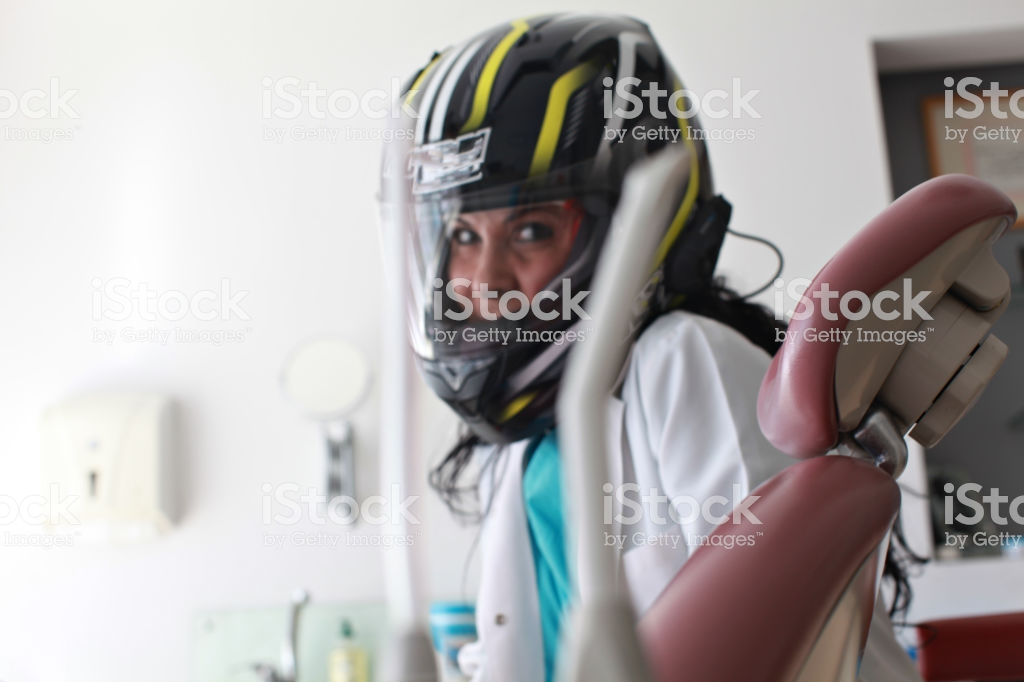helmet: (370, 18, 733, 374)
